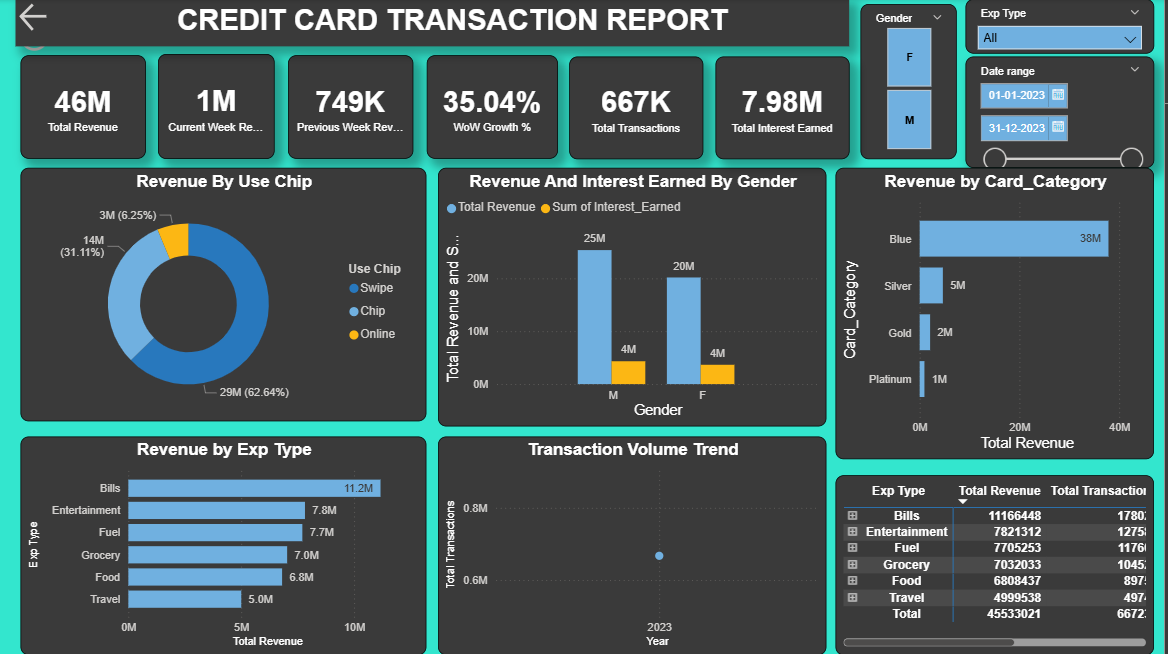

This screenshot's page, from the dashboard's own definition file:
{"tool":"powerbi","page":{"name":"Transaction report","canvas":[1280,720],"ordinal":1},"visuals":[{"type":"card","fields":{"Values":["CreditCard.Total Revenue"]},"box":[24.7,61.7,137.2,113.9],"z":0},{"type":"card","fields":{"Values":["CreditCard.Current Week Revenue"]},"box":[175.6,60.4,127.6,115.3],"z":1000},{"type":"card","fields":{"Values":["CreditCard.Previous Week Revenue"]},"box":[318.4,61.7,137.2,113.9],"z":2000},{"type":"card","fields":{"Values":["CreditCard.WoW Growth %"]},"box":[470.7,61.7,144.1,113.9],"z":3000},{"type":"slicer","fields":{"Values":["CreditCard.Week_Start_Date"]},"box":[1062.1,63.1,207.2,122.1],"z":5000},{"type":"card","fields":{"Values":["CreditCard.Total Transactions"]},"box":[627.1,63.1,146.8,112.5],"z":6000},{"type":"actionButton","box":[18.5,20,51.3,41.3],"z":7000},{"type":"textbox","box":[19.2,0,915.3,52.1],"z":9000},{"type":"actionButton","box":[18.5,0,51.3,39.9],"z":10000},{"type":"clusteredBarChart","title":"Revenue by Exp Type","fields":{"Category":["CreditCard.Exp Type"],"Y":["CreditCard.Total Revenue"]},"box":[24.7,480.3,446,240.1],"z":11000},{"type":"clusteredColumnChart","title":" Revenue And Interest Earned By Gender","fields":{"Y":["CreditCard.Total Revenue","Sum(CreditCard.Interest_Earned)"],"Category":["customer.Gender"]},"box":[483,185.2,426.8,284],"z":12000},{"type":"lineChart","title":"Transaction Volume Trend","fields":{"Y":["CreditCard.Total Transactions"],"Category":["CreditCard.Week_Start_Date.Variation.Date Hierarchy.Year","CreditCard.Week_Start_Date.Variation.Date Hierarchy.Quarter","CreditCard.Week_Start_Date.Variation.Date Hierarchy.Month","CreditCard.Week Num"]},"box":[483,480.3,426.8,240.1],"z":13000},{"type":"slicer","fields":{"Values":["CreditCard.Exp Type"]},"box":[1062.1,0,207.2,60.4],"z":14000},{"type":"slicer","fields":{"Values":["customer.Gender"]},"box":[946.8,5.5,105.7,170.2],"z":15000},{"type":"donutChart","title":"Revenue By Use Chip","fields":{"Category":["CreditCard.Use Chip"],"Y":["CreditCard.Total Revenue"]},"box":[24.7,185.2,446,278.6],"z":16000},{"type":"card","fields":{"Values":["CreditCard.Total Interest Earned"]},"box":[787.7,63.1,146.8,112.5],"z":17000},{"type":"barChart","title":" Revenue by Card_Category","fields":{"Y":["CreditCard.Total Revenue"],"Category":["CreditCard.Card_Category"]},"box":[919.4,185.2,349.9,319.7],"z":18000},{"type":"pivotTable","fields":{"Rows":["CreditCard.Exp Type","CreditCard.Card_Category","CreditCard.Client_Num"],"Values":["CreditCard.Total Revenue","CreditCard.Total Transactions","CreditCard.Total Interest Earned"]},"box":[919.4,522.8,349.9,197.6],"z":19000}]}

Visuals, with their boxes in screenshot pixels (x1, y1, x2, y2), scaled from the page's 1280x720 canvas onto the 1168x654 screenshot:
card - CreditCard.Total Revenue: crop(23, 56, 148, 160)
card - CreditCard.Current Week Revenue: crop(160, 55, 277, 160)
card - CreditCard.Previous Week Revenue: crop(291, 56, 416, 160)
card - CreditCard.WoW Growth %: crop(430, 56, 561, 160)
slicer - CreditCard.Week_Start_Date: crop(969, 57, 1158, 168)
card - CreditCard.Total Transactions: crop(572, 57, 706, 160)
actionButton: crop(17, 18, 64, 56)
textbox: crop(18, 0, 853, 47)
actionButton: crop(17, 0, 64, 36)
"Revenue by Exp Type" clusteredBarChart: crop(23, 436, 430, 653)
" Revenue And Interest Earned By Gender" clusteredColumnChart: crop(441, 168, 830, 426)
"Transaction Volume Trend" lineChart: crop(441, 436, 830, 653)
slicer - CreditCard.Exp Type: crop(969, 0, 1158, 55)
slicer - customer.Gender: crop(864, 5, 960, 160)
"Revenue By Use Chip" donutChart: crop(23, 168, 430, 421)
card - CreditCard.Total Interest Earned: crop(719, 57, 853, 160)
" Revenue by Card_Category" barChart: crop(839, 168, 1158, 459)
pivotTable - CreditCard.Exp Type x CreditCard.Card_Category: crop(839, 475, 1158, 653)
